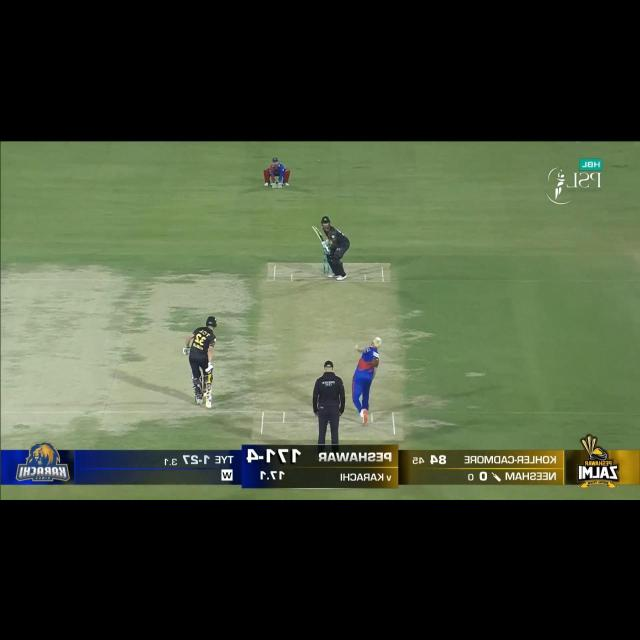bat: (203, 382, 214, 412), (310, 225, 323, 242)
toe: (309, 225, 317, 232), (205, 406, 213, 410)
